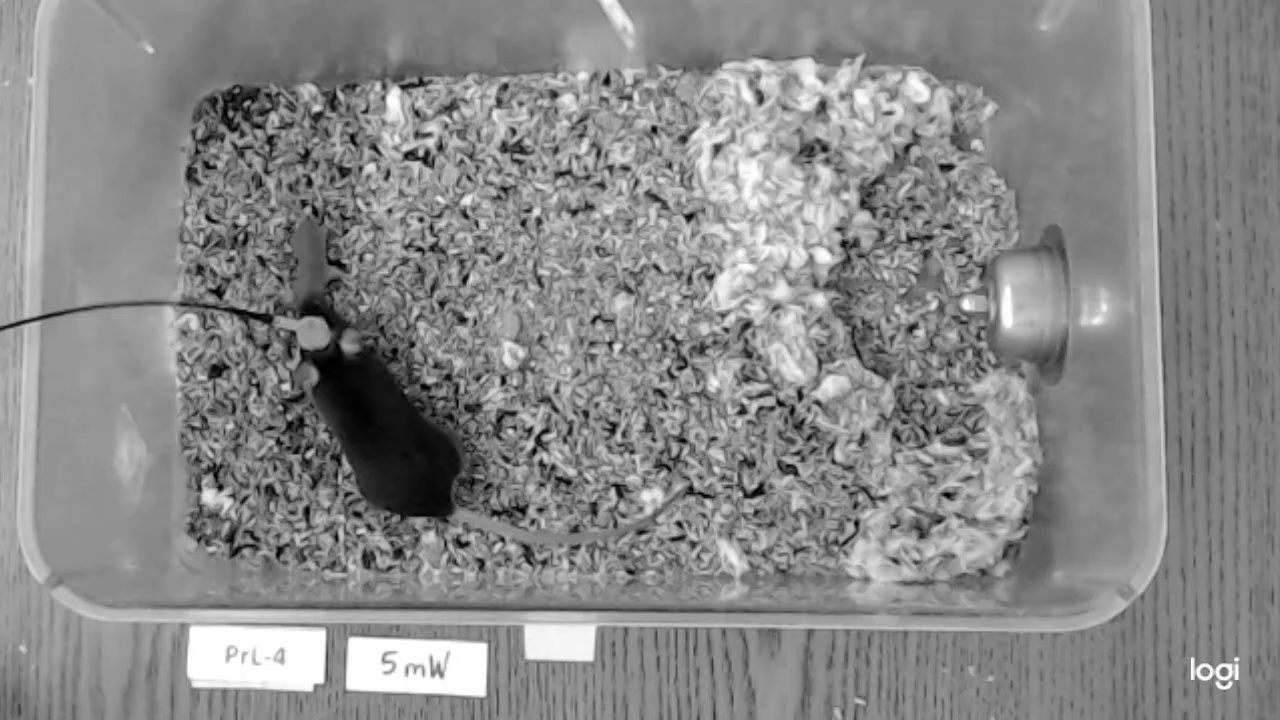child-mice: (288, 218, 338, 305)
